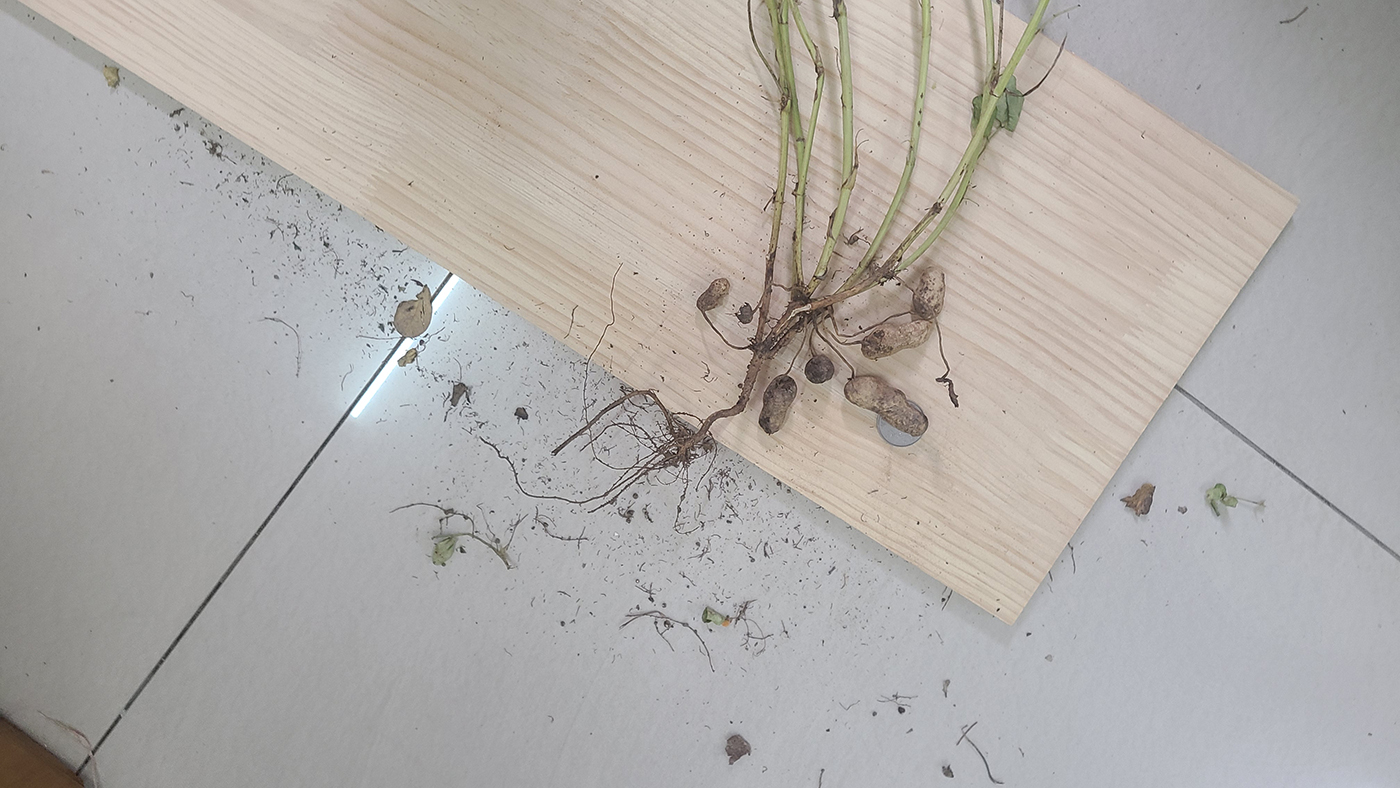h: (912, 267, 946, 319)
l: (844, 373, 930, 436), (859, 318, 935, 357), (758, 374, 797, 434), (697, 277, 730, 311), (804, 355, 835, 383), (946, 376, 961, 408), (737, 302, 754, 326)
